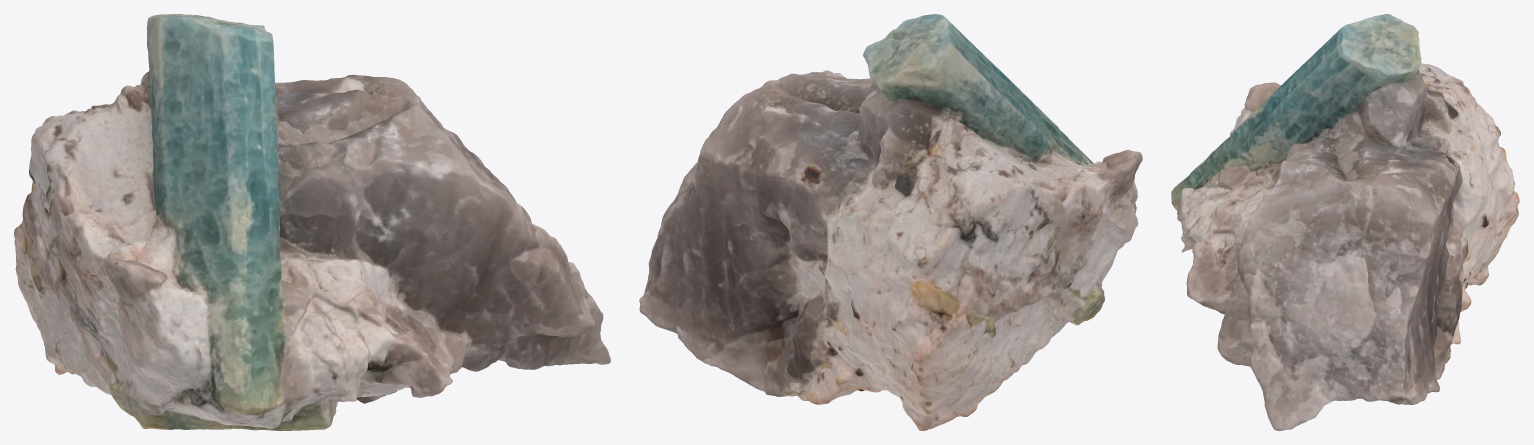
File: fische-aquamarine.glb
3 views of the same model, side by side, from view 1: azimuth 30°, elevation 25°; view 2: azimuth 150°, elevation 25°; view 3: azimuth 270°, elevation 25° (orthographic). The views are drawn at different scales.
Parts seen in each view (by area): view 1: Model_material2_0, Model_material0_0, Model_material1_0; view 2: Model_material1_0, Model_material2_0, Model_material0_0; view 3: Model_material2_0, Model_material1_0, Model_material0_0.
Boxes of the visible parts, x1,y1,x2,y2 form: Model_material2_0: (14,14,603,430); Model_material0_0: (32,14,610,430); Model_material1_0: (22,74,466,424); Model_material1_0: (653,61,1138,396); Model_material2_0: (639,14,1136,430); Model_material0_0: (786,50,1142,404); Model_material2_0: (1171,14,1519,404); Model_material1_0: (1186,58,1514,400); Model_material0_0: (1190,17,1487,430).
Size of the model in its own units: 1.17 by 0.918 by 0.9429.
3 materials, 3 textured.
